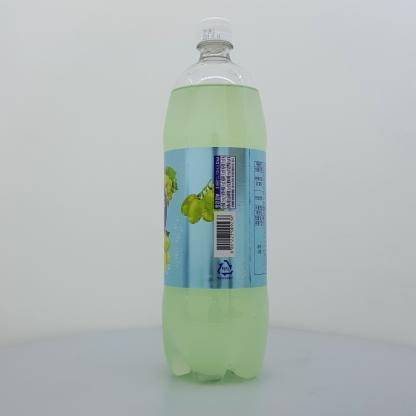---------------: (162, 17, 269, 382)
